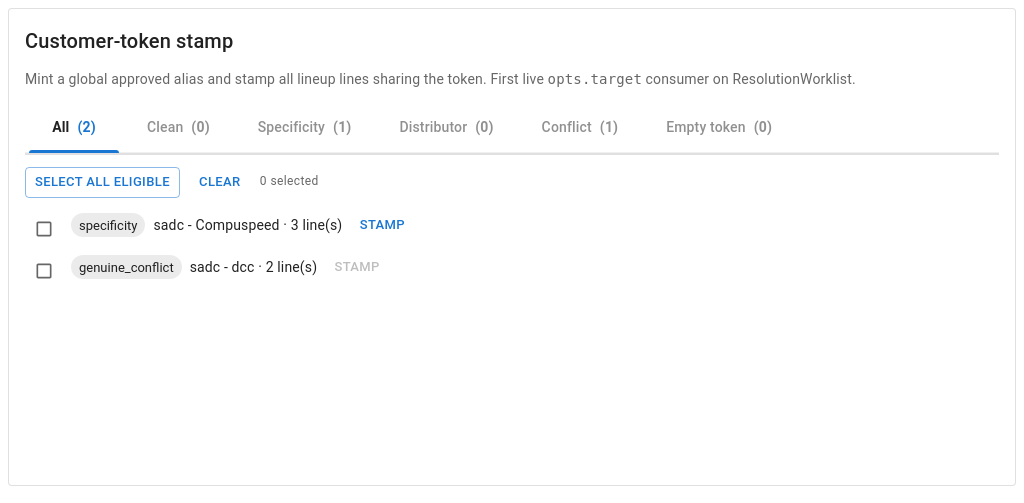
it: CustomerTokenWorklistSection › renders target picker and prefers named customer (not OPEN_CHANNEL)
Click the text "sadc - Compuspeed · 3 line(s)": [248, 225] box [154,215,342,235]
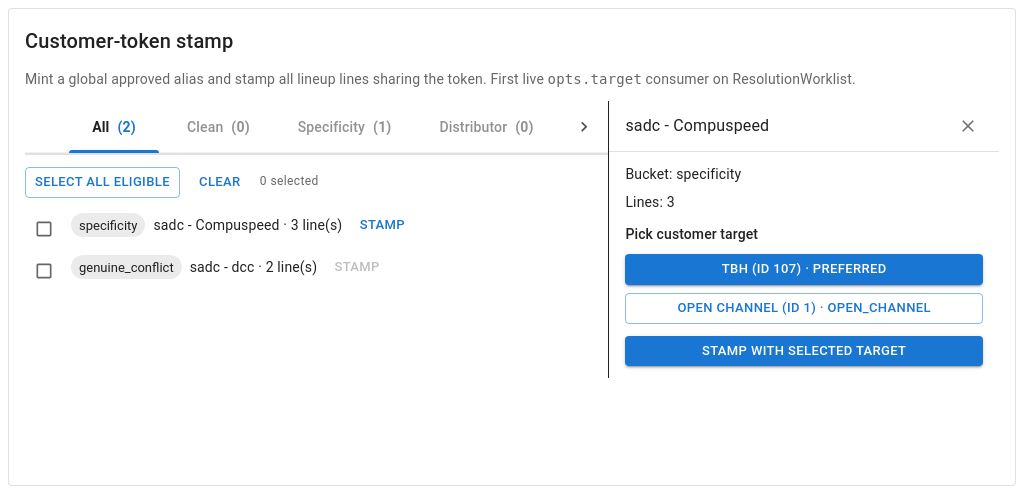
Expected: the element with test id "customer-token-target-picker" is shown, [625,224,983,324]
Expected: the button with test id "customer-token-target-107" is shown, [625,254,983,285]
Expected: the button with test id "customer-token-target-1" is shown, [625,293,983,324]
